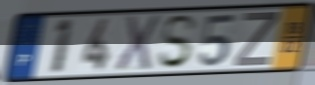1: (52, 17, 74, 76)
4: (79, 17, 112, 74)
5: (196, 12, 239, 69)
S: (156, 13, 200, 71)
X: (113, 14, 163, 75)
Z: (231, 11, 281, 69)
